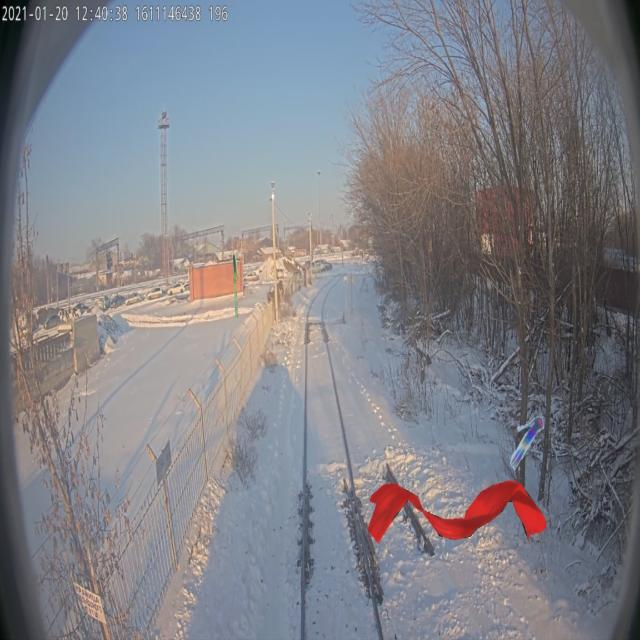floating object: (367, 480, 547, 544), (509, 412, 544, 477), (232, 254, 238, 318)
